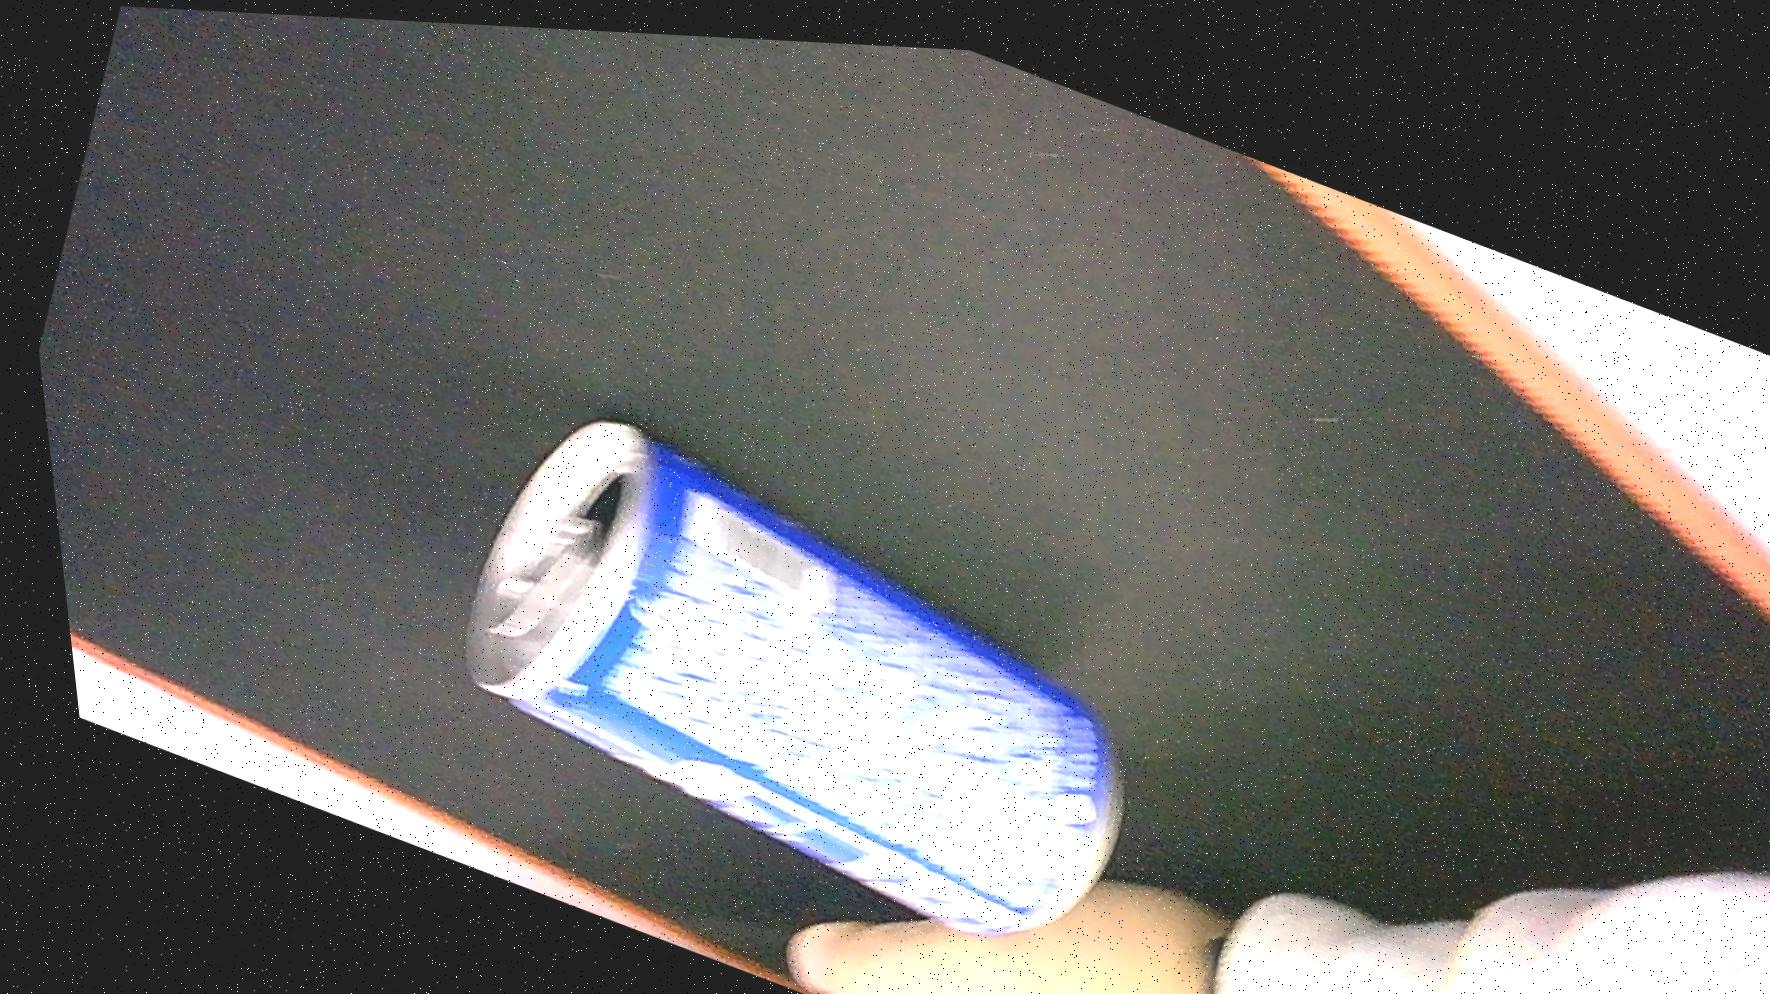letsbe: (391, 371, 1185, 973)
